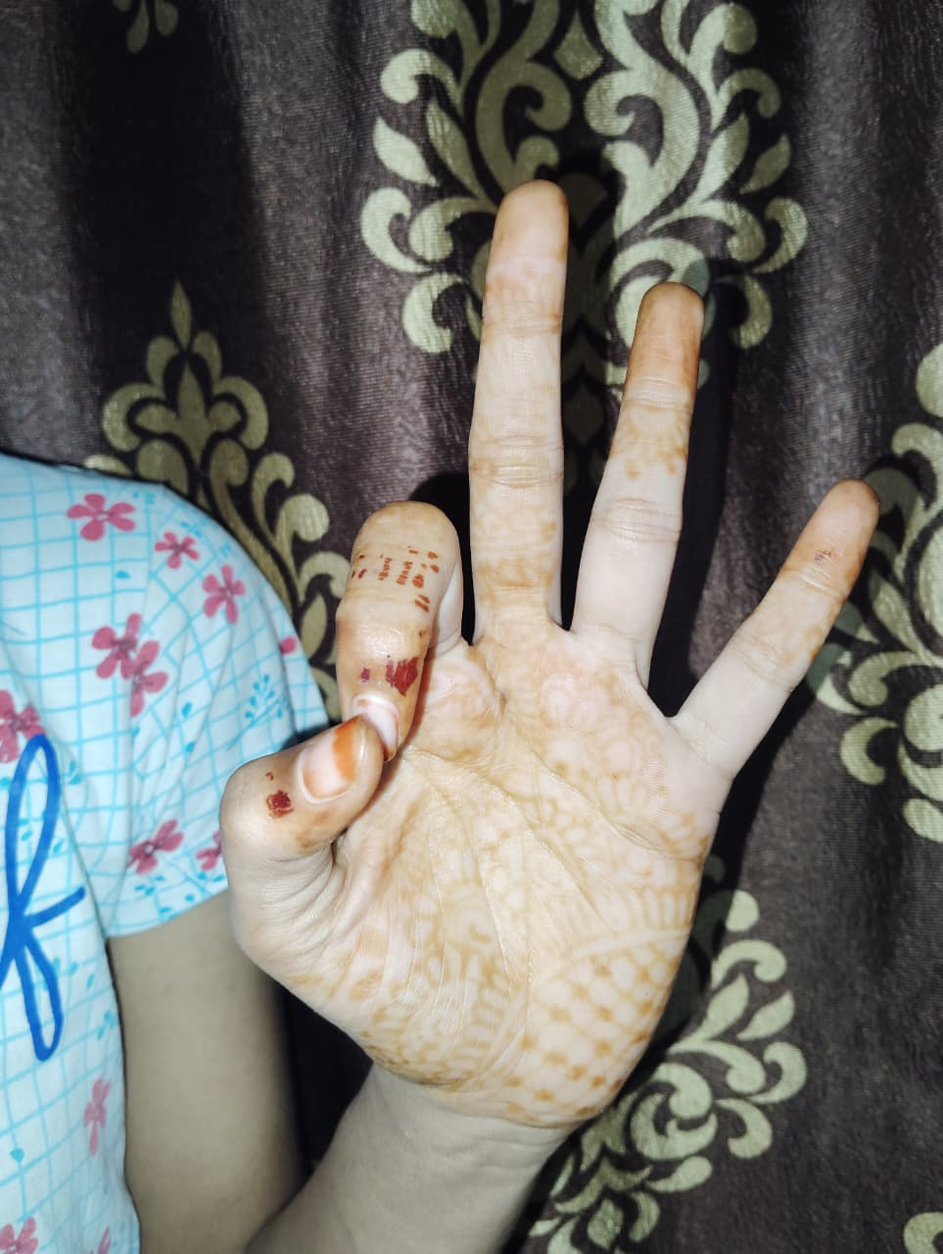F: (219, 179, 876, 1088)
